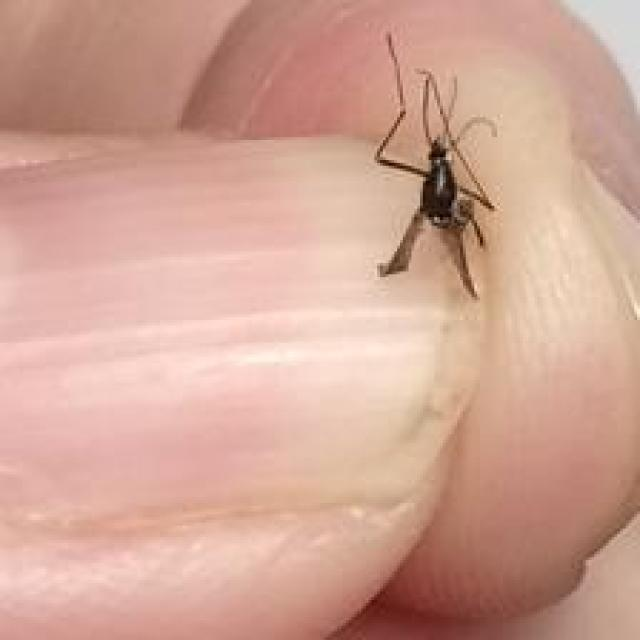Aedes albopictus: (371, 29, 500, 300)
